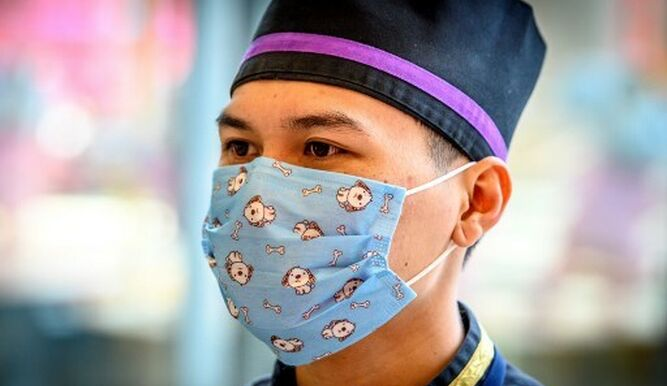with_mask: (182, 4, 545, 363)
